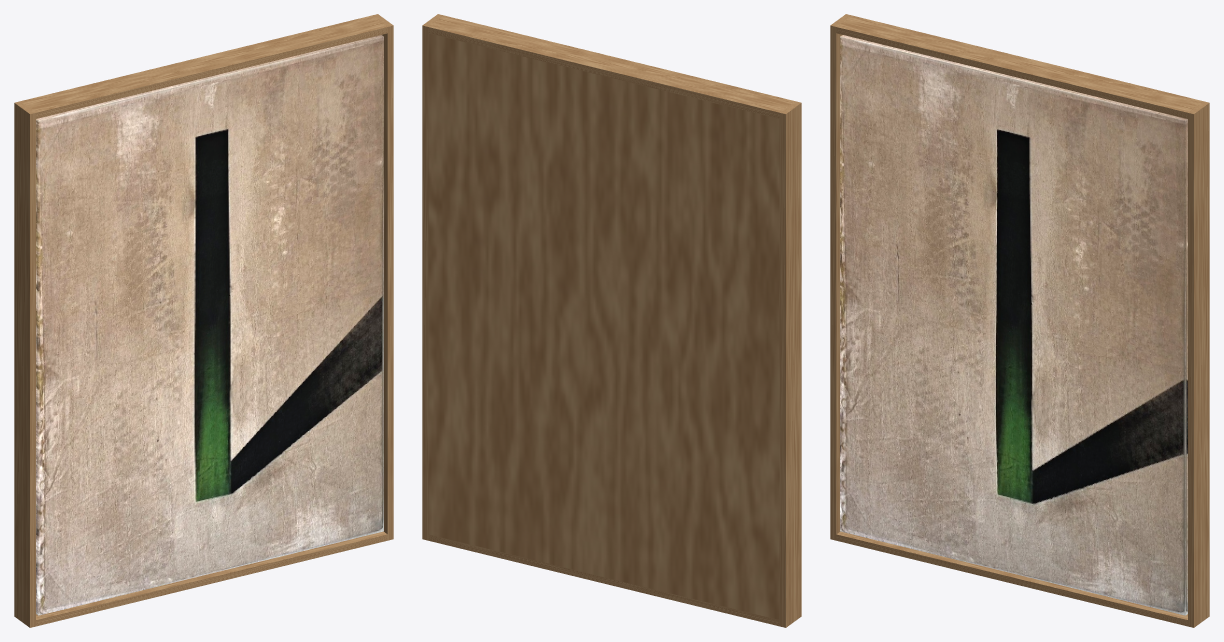
File: monolith-oak.glb
The picture shows the model from 3 angles, left to right: view 1: azimuth 30°, elevation 25°; view 2: azimuth 150°, elevation 25°; view 3: azimuth 330°, elevation 25°; orthographic projection.
Visible parts, largest first — view 1: painting; view 2: painting; view 3: painting.
Part boxes in pixels (x1,y1,x2,y2): painting: [14, 14, 393, 627]; painting: [422, 14, 801, 627]; painting: [830, 14, 1209, 627].
Size of the model in its own units: 0.6 by 0.81 by 0.045.
Materials: 7 (6 with a texture image).
